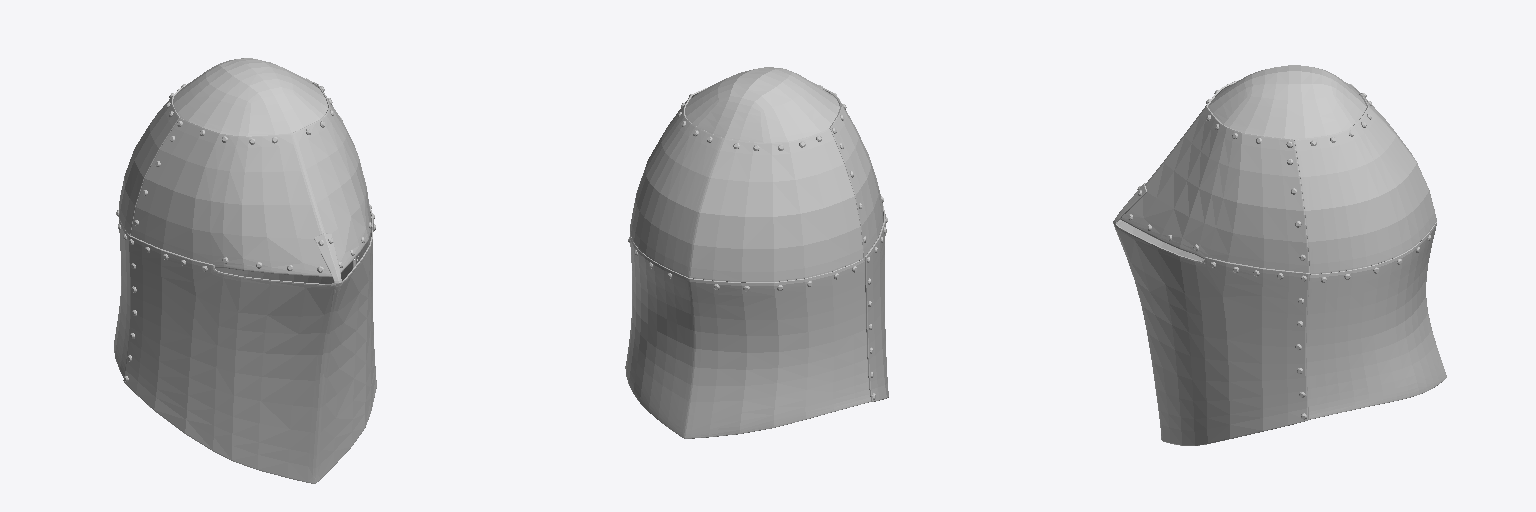
File: Helm_grandhelm.obj
The picture shows the model from 3 angles: view 1: azimuth 30°, elevation 25°; view 2: azimuth 150°, elevation 25°; view 3: azimuth 270°, elevation 25°; orthographic projection.
Parts seen in each view (by area): view 1: Helm_grandhelm; view 2: Helm_grandhelm; view 3: Helm_grandhelm.
Part boxes in pixels (x1,y1,x2,y2): Helm_grandhelm: (114, 58, 376, 483); Helm_grandhelm: (625, 67, 888, 438); Helm_grandhelm: (1113, 65, 1446, 445).
Bounding box in the file's own units: 1.22 × 1.79 × 1.47.